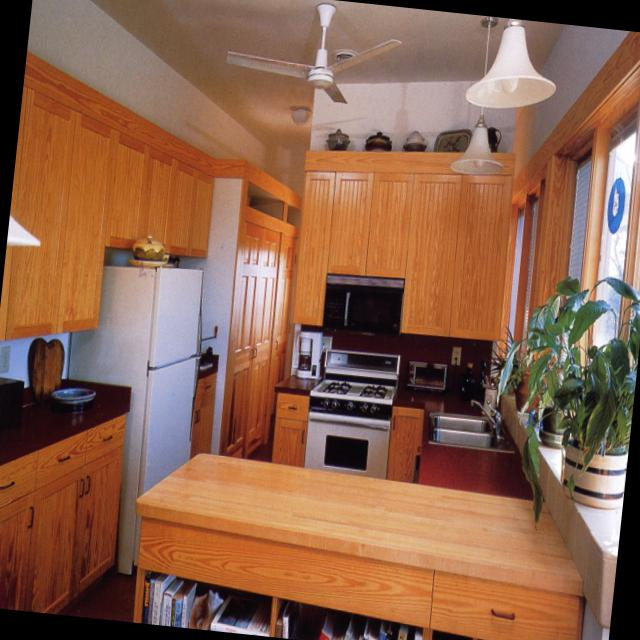ceiling lamp: (225, 0, 405, 100)
counter: (137, 446, 579, 591), (0, 373, 131, 453)
cupboard crop: (0, 82, 213, 339)
lamp crop: (466, 26, 555, 107)
microwave oven: (324, 274, 403, 332)
refrigerator: (69, 266, 204, 570)
sink basin: (431, 410, 514, 448)
stove burner: (304, 343, 403, 471)
